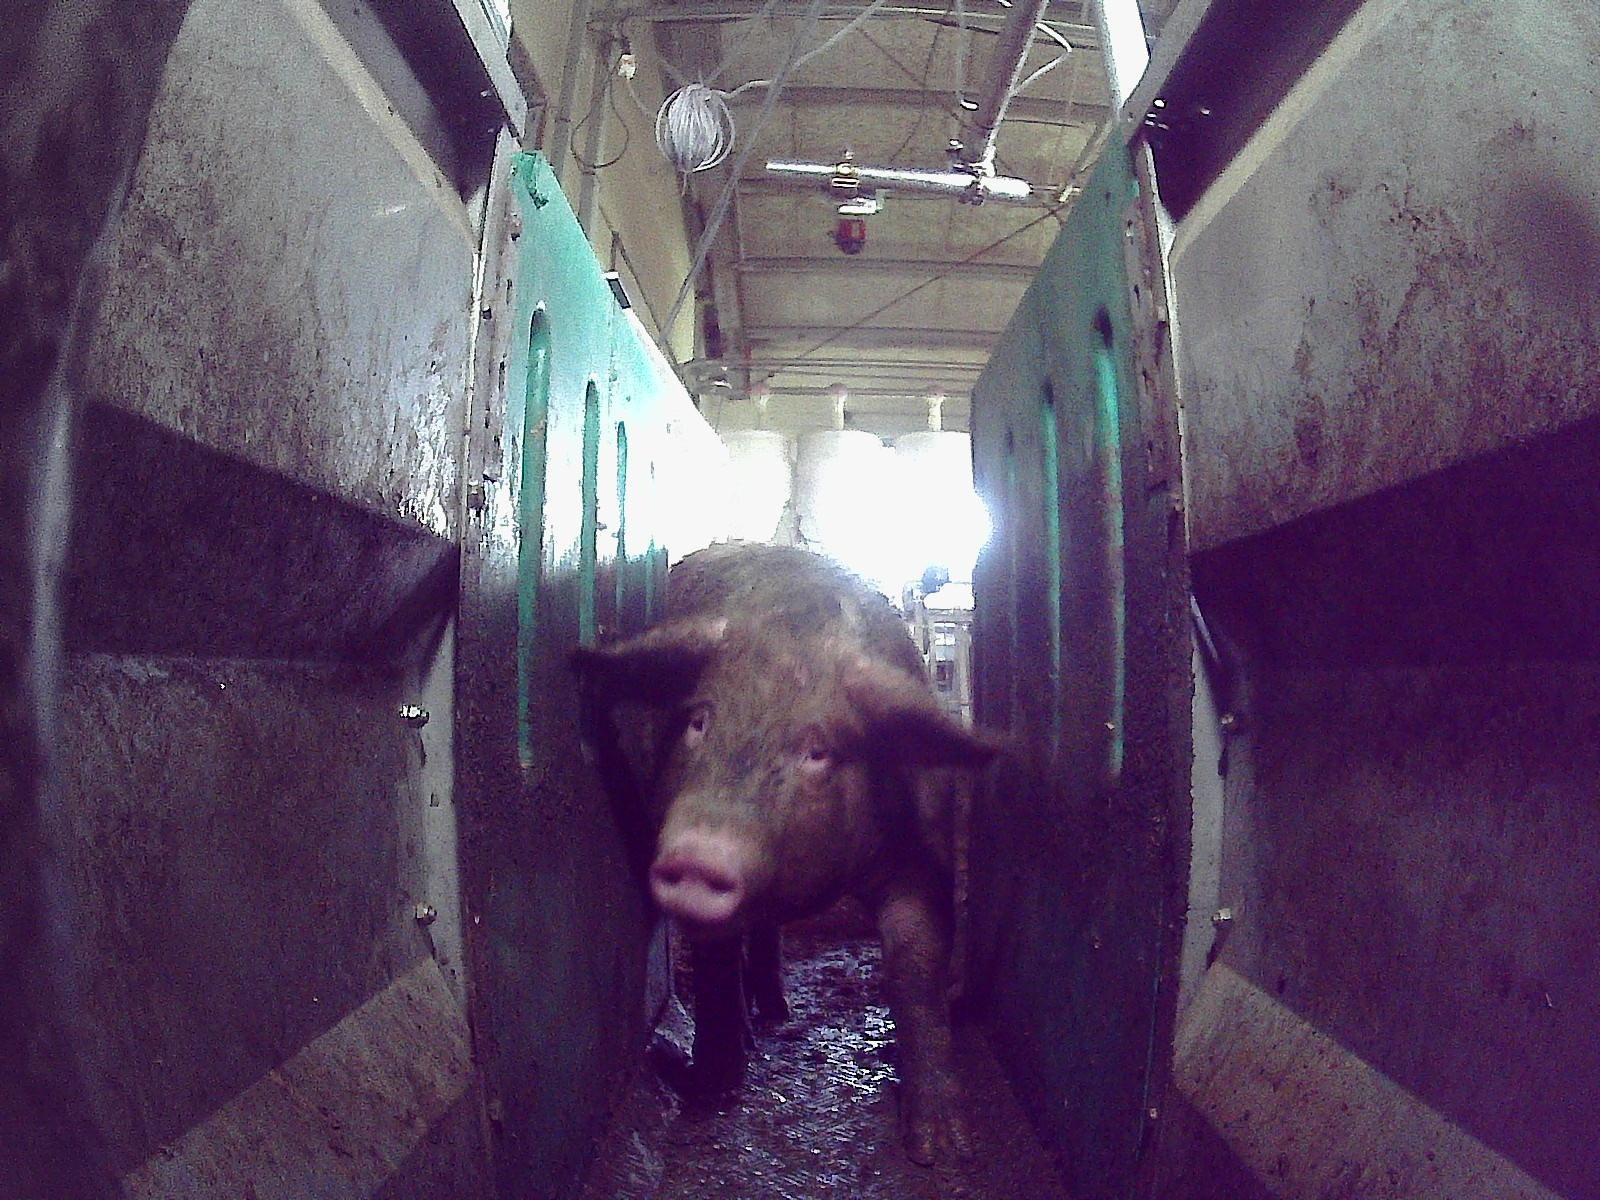Face: (648, 622, 889, 929)
